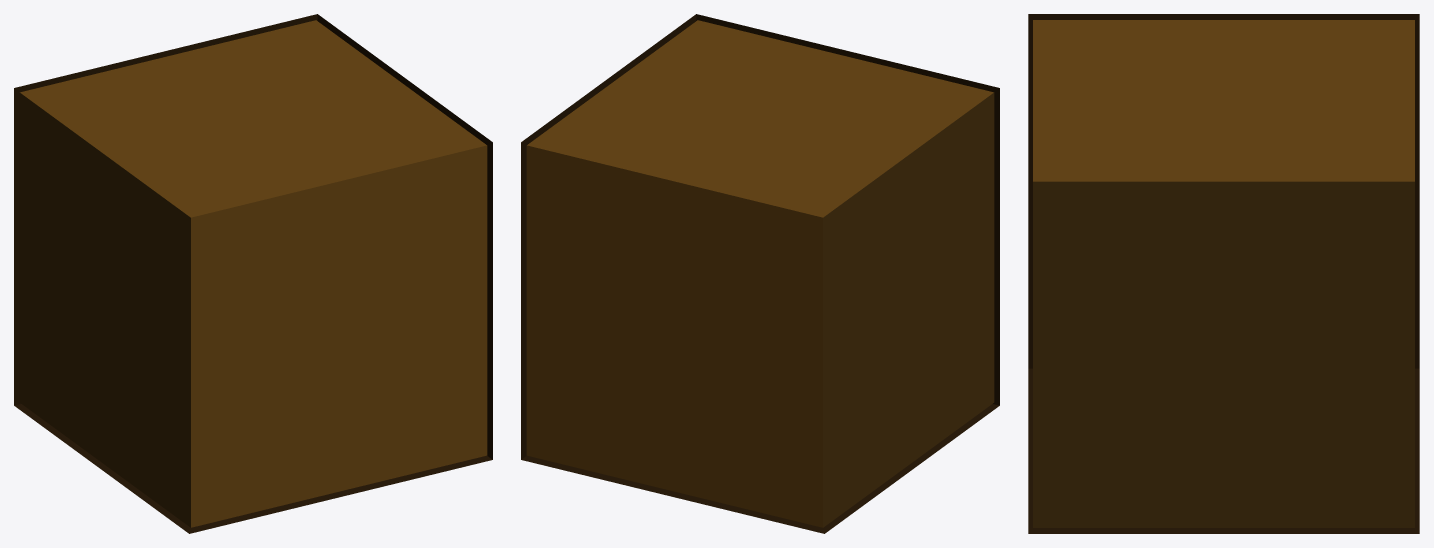
The model's file is PushPull.FBX.
3 views of the same model, side by side, from view 1: azimuth 30°, elevation 25°; view 2: azimuth 150°, elevation 25°; view 3: azimuth 270°, elevation 25° (orthographic). The views are drawn at different scales.
Parts seen in each view (by area): view 1: PushPull; view 2: PushPull; view 3: PushPull.
Part boxes in pixels (<box>): PushPull: <box>14,14,492,533</box>; PushPull: <box>521,14,999,533</box>; PushPull: <box>1028,14,1419,533</box>.
Size of the model in its own units: 196 by 196 by 196.
Materials: 1 (1 with a texture image).
